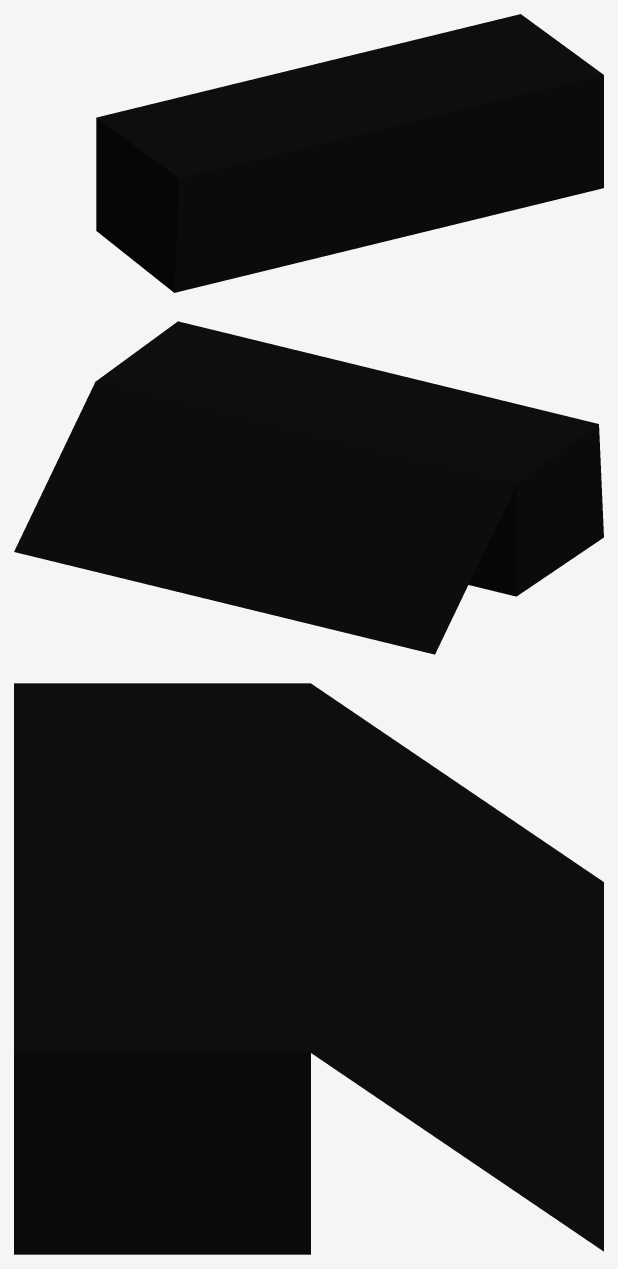
Rendered from rampaGrande.glb.
The picture shows the model from 3 angles, top to bottom: view 1: azimuth 30°, elevation 25°; view 2: azimuth 150°, elevation 25°; view 3: azimuth 270°, elevation 25°; orthographic projection. The views are drawn at different scales.
Parts seen in each view (by area): view 1: Plane_007; view 2: Plane_007; view 3: Plane_007.
Boxes of the visible parts, x1,y1,x2,y2 form: Plane_007: (96, 14, 603, 292); Plane_007: (14, 321, 603, 654); Plane_007: (14, 683, 603, 1254).
Size of the model in its own units: 3.34 by 0.84 by 2.23.
1 material, 1 textured.
